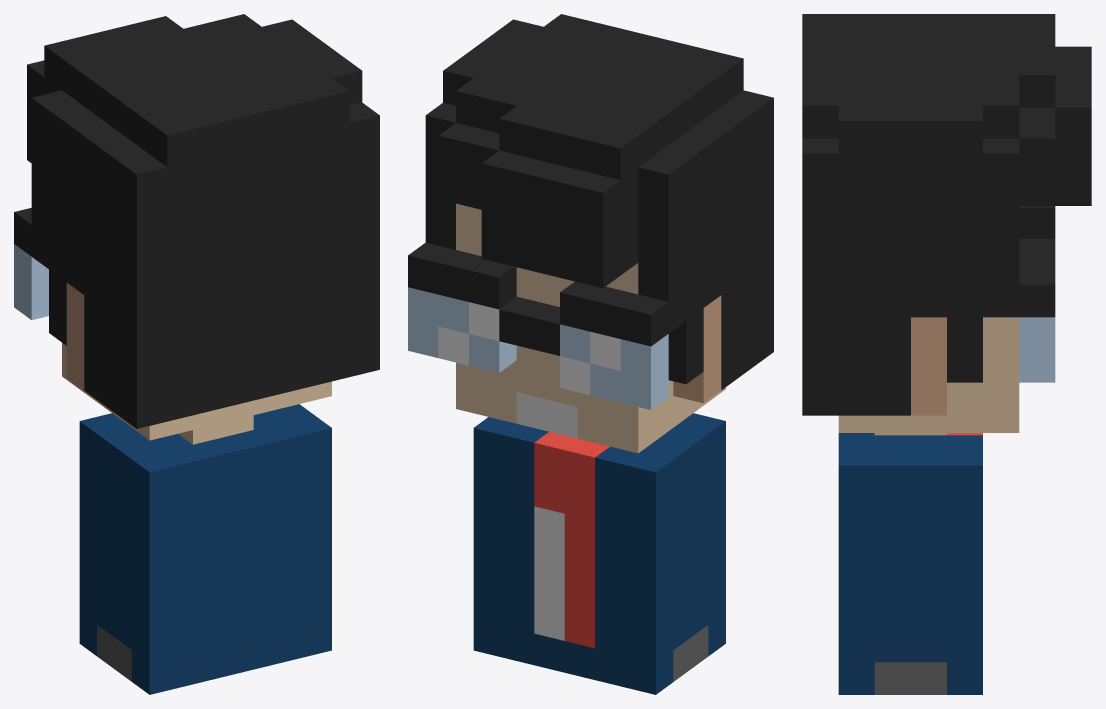
File: Character-25-body.obj
3 views of the same model, side by side, from view 1: azimuth 30°, elevation 25°; view 2: azimuth 150°, elevation 25°; view 3: azimuth 270°, elevation 25° (orthographic). The views are drawn at different scales.
Parts seen in each view (by area): view 1: body; view 2: body; view 3: body.
Part boxes in pixels (<box>): body: <box>14,14,379,694</box>; body: <box>408,14,773,694</box>; body: <box>802,14,1091,694</box>.
Bounding box in the file's own units: 8 × 18 × 8.
Materials: 1 (1 with a texture image).
